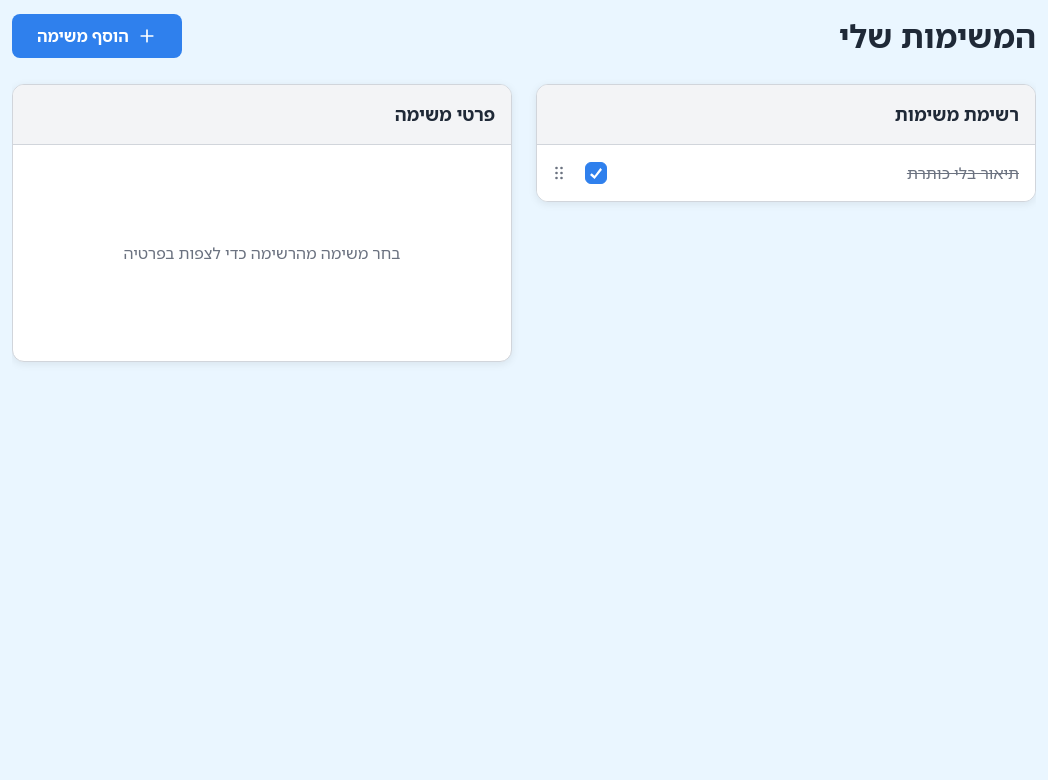
Scenario: HomePage › shows the details of a selected task
This screenshot has width=1048, height=780.
Click the button "תיאור בלי כותרת" at (963, 173), box 615,145 -> 1035,201
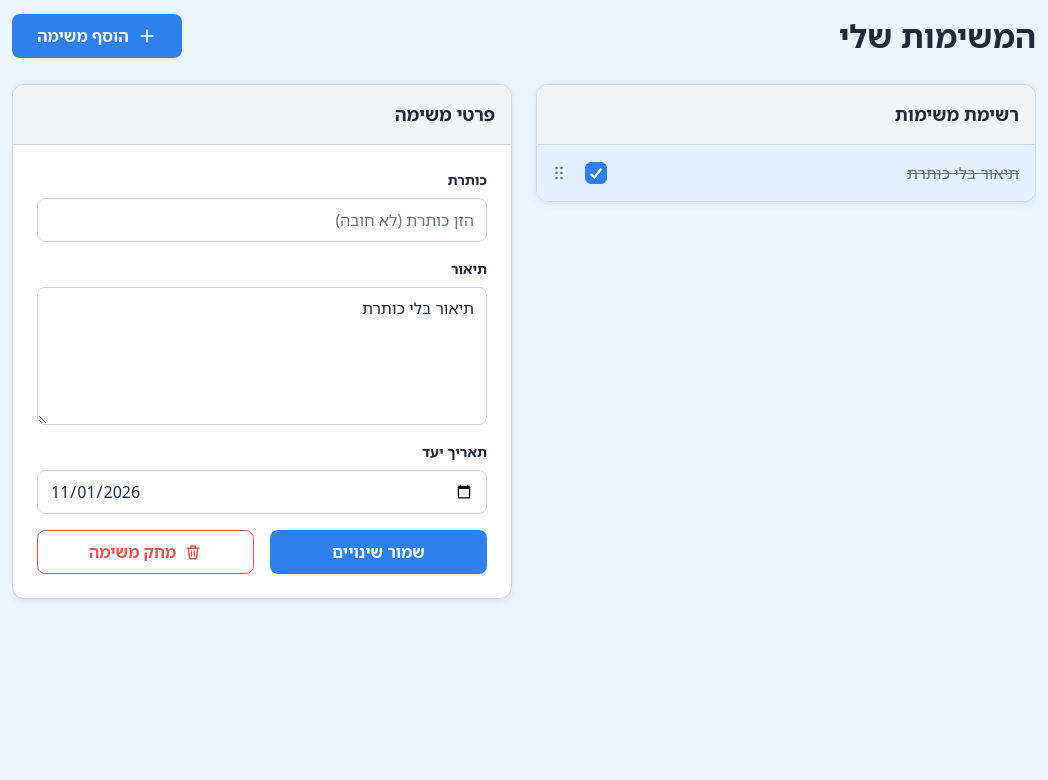
Expected: the checkbox is checked, 585,162 -> 607,184
Result: the text box labelled "תיאור" holds "תיאור בלי כותרת" at 37,287 -> 487,425
Result: the date field labelled "תאריך יעד" holds "2026-11-01" at 37,470 -> 487,514
